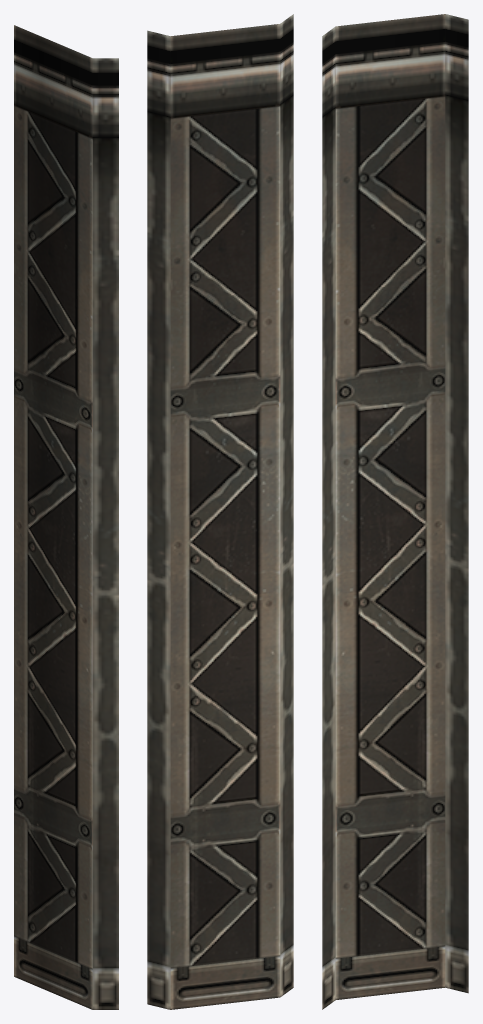
The model's file is mprw_pillar_thin_corner.FBX.
The picture shows the model from 3 angles, left to right: view 1: azimuth 90°, elevation 25°; view 2: azimuth 150°, elevation 25°; view 3: azimuth 330°, elevation 25°; orthographic projection. The views are drawn at different scales.
Parts seen in each view (by area): view 1: mprw_pillar_thin_corner; view 2: mprw_pillar_thin_corner; view 3: mprw_pillar_thin_corner.
Part boxes in pixels (x1,y1,x2,y2): mprw_pillar_thin_corner: (14, 25, 118, 1009); mprw_pillar_thin_corner: (147, 14, 293, 1009); mprw_pillar_thin_corner: (322, 14, 468, 1009).
Size of the model in its own units: 100 by 1003 by 100.
Materials: 1 (1 with a texture image).
